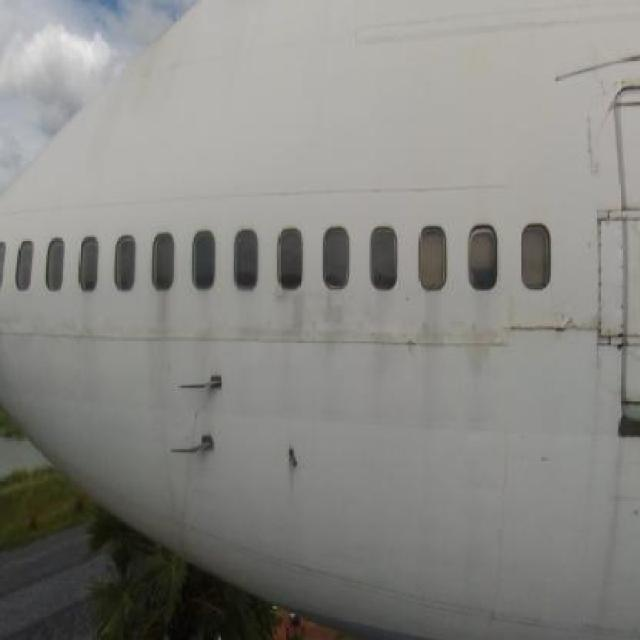Missing-Rivet: (588, 202, 626, 356)
Scartch: (546, 34, 640, 92), (502, 307, 589, 347), (572, 104, 606, 188)
